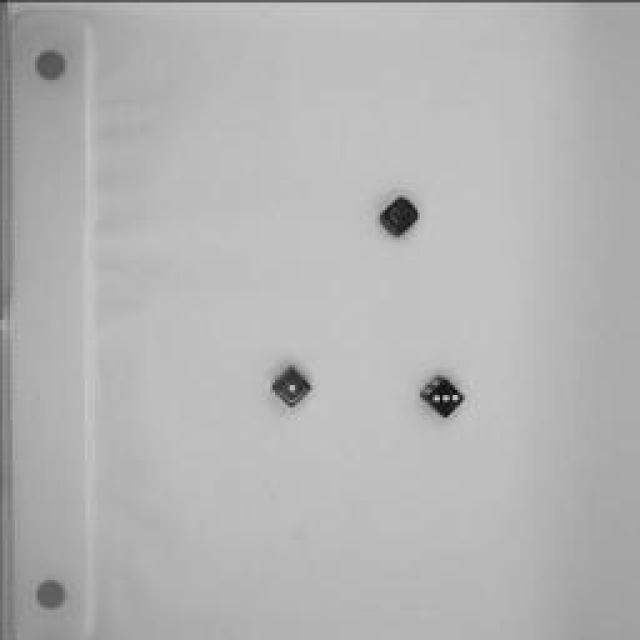dice_1: (268, 360, 320, 410)
dice_2: (375, 190, 425, 242)
dice_3: (415, 370, 465, 420)
